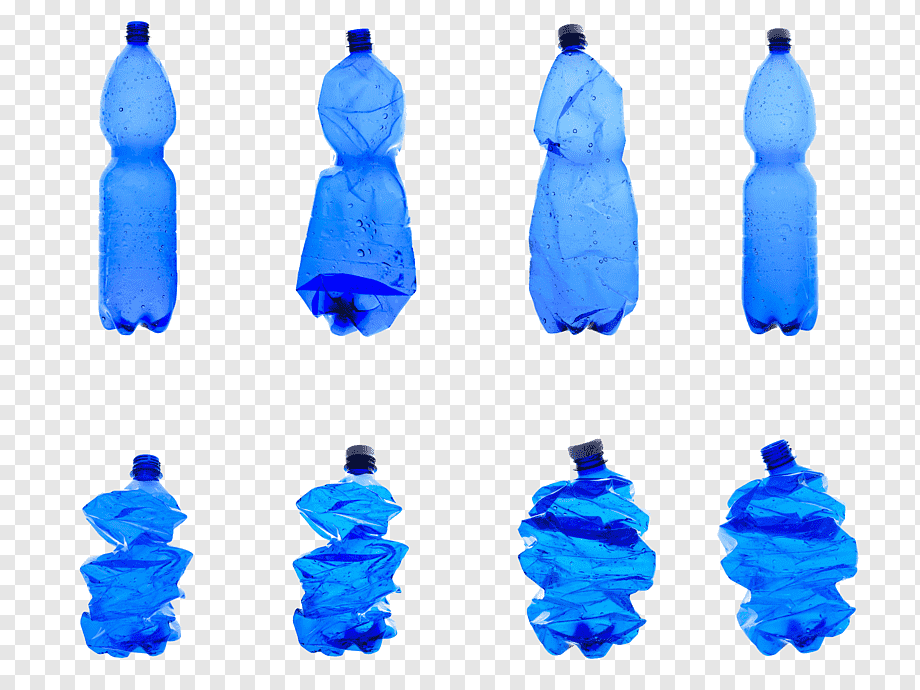plastic_bottle: (480, 5, 685, 393), (249, 4, 455, 389), (54, 4, 224, 386), (695, 407, 911, 688), (487, 410, 696, 690), (252, 412, 456, 687), (716, 5, 851, 406), (41, 410, 214, 675)
